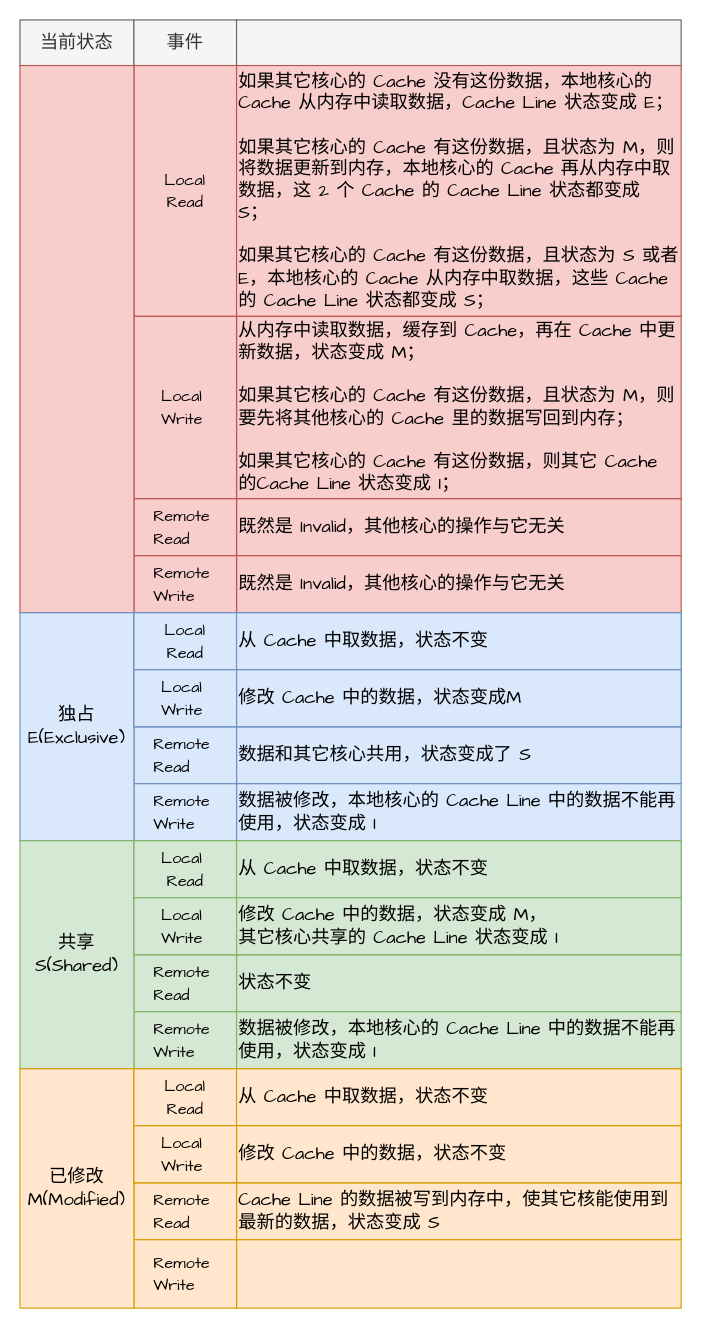
The diagram is 701 pixels wide and 1328 high, and some of its shapes have lost their labels. Each missing label, with the box of its shape:
Cache Line 的 数据被写到内存中，使其它核能使用到最新的数据，由于其它核会修改这行数据， 状态变成 I: (235, 1239, 681, 1308)
已失效 I(Invalid): (19, 64, 134, 613)
行为: (235, 19, 681, 66)
